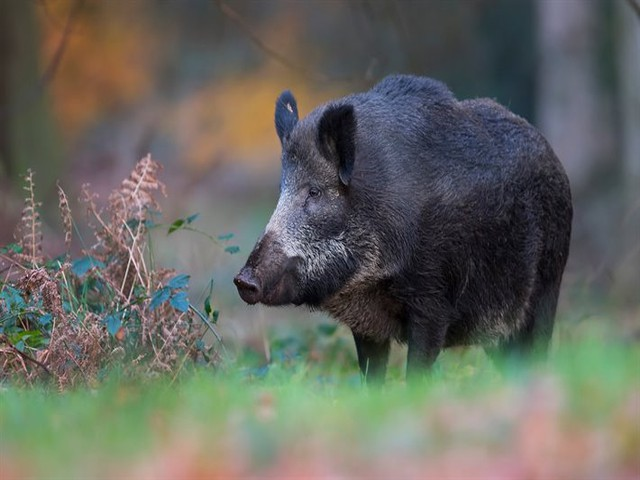Pig: (221, 69, 585, 365)
